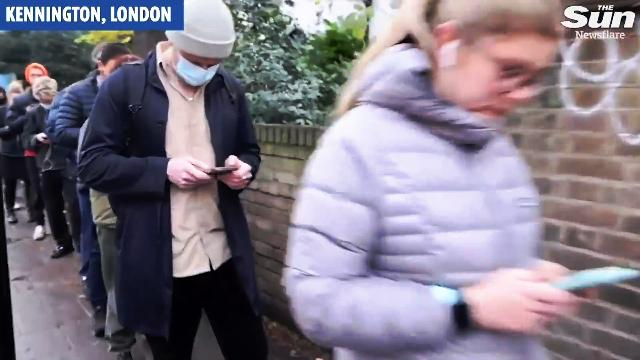berdiri: (286, 14, 608, 360), (79, 14, 281, 360)
